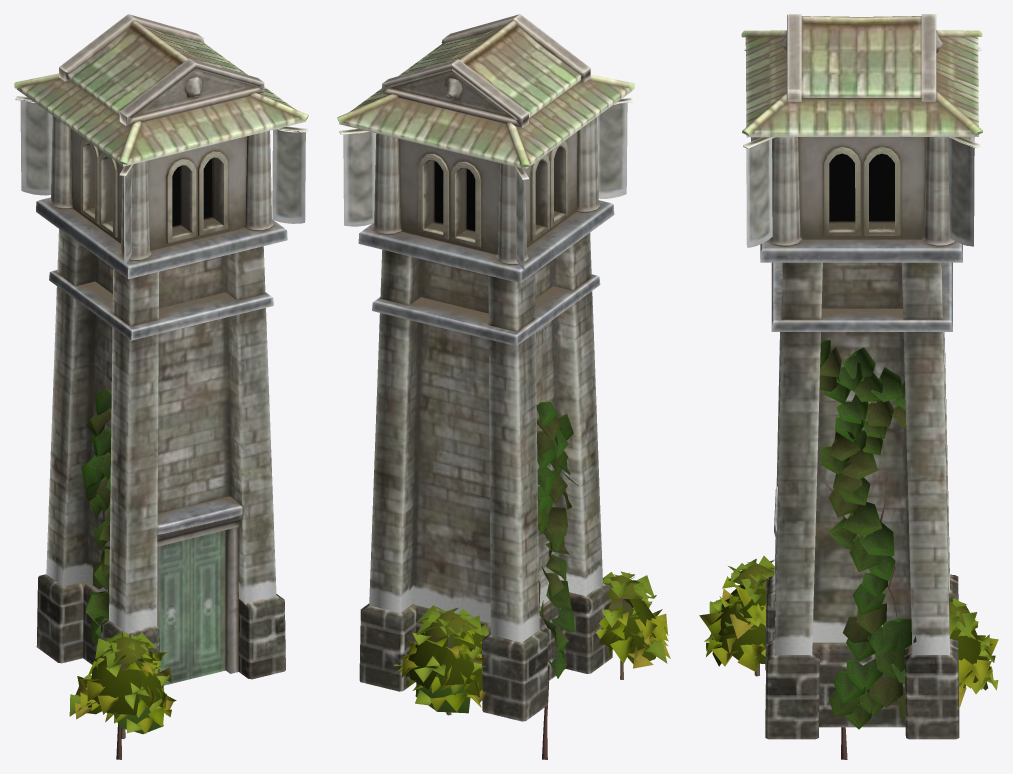
File: 70-guardtower-guard_tower_g_age4.glb
3 views of the same model, side by side, from view 1: azimuth 30°, elevation 25°; view 2: azimuth 150°, elevation 25°; view 3: azimuth 270°, elevation 25° (orthographic). The views are drawn at different scales.
Size of the model in its own units: 3.13 by 9.13 by 3.21.
Materials: 5 (5 with a texture image).
